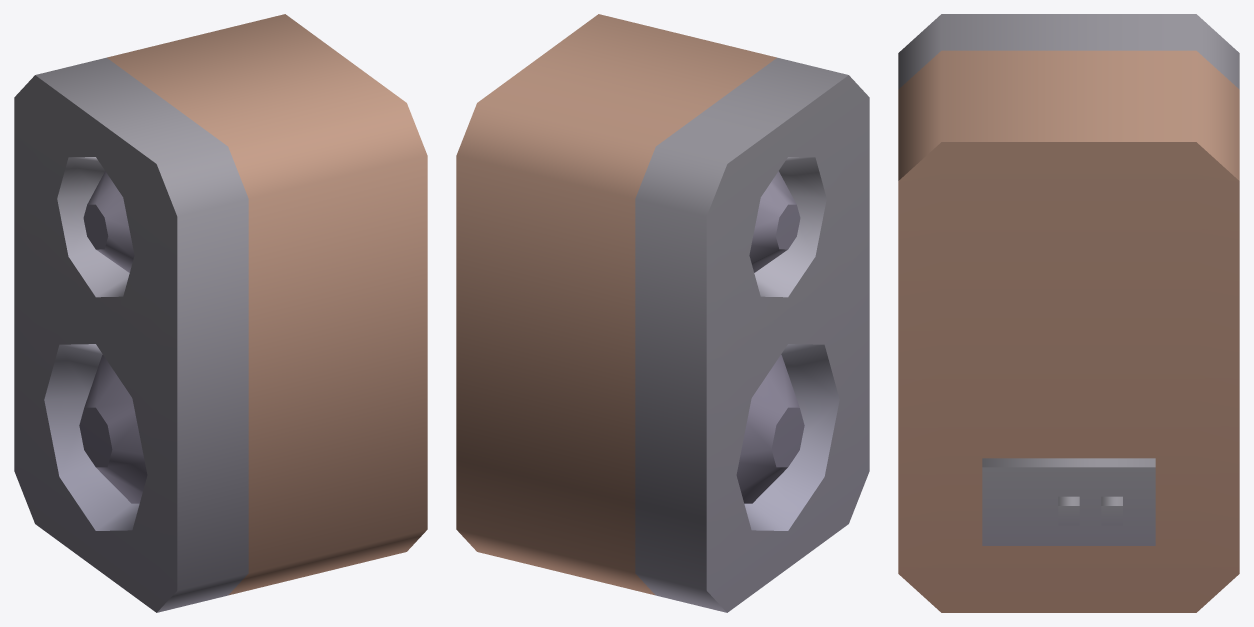
The model's file is speaker-small.glb.
3 views of the same model, side by side, from view 1: azimuth 30°, elevation 25°; view 2: azimuth 150°, elevation 25°; view 3: azimuth 270°, elevation 25° (orthographic). The views are drawn at different scales.
Parts seen in each view (by area): view 1: speaker-small; view 2: speaker-small; view 3: speaker-small.
Part boxes in pixels (x1,y1,x2,y2): speaker-small: (14,14,427,612); speaker-small: (456,14,869,612); speaker-small: (898,14,1239,612).
Bounding box in the file's own units: 0.2117 × 0.3176 × 0.2088.
